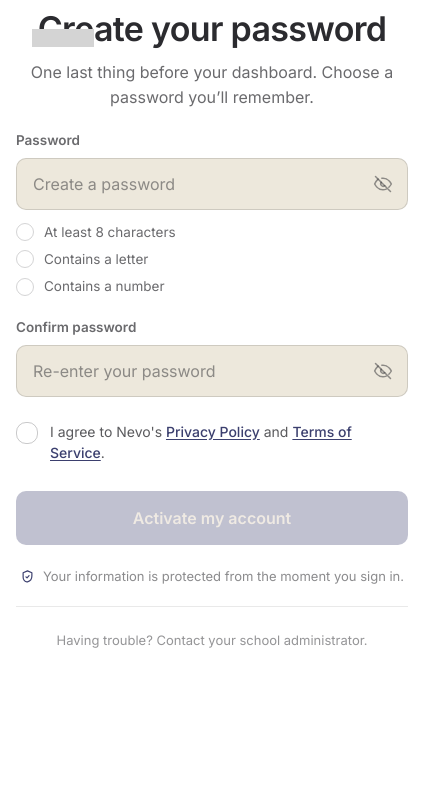
Scenario: an invite that no longer matches the account › does not blame the link when Nevo could not be reached
In the password field labelled "Password": (199, 184) [33,159,365,209], type "lessons42"
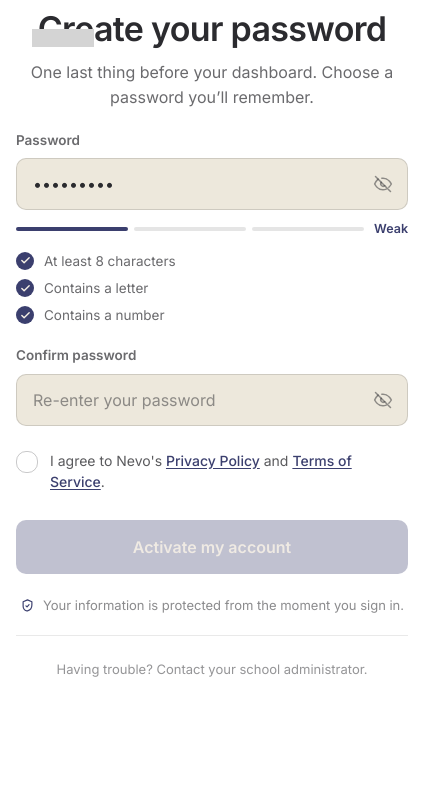
In the password field labelled "Confirm password": (199, 400) [33,375,365,425], type "lessons42"
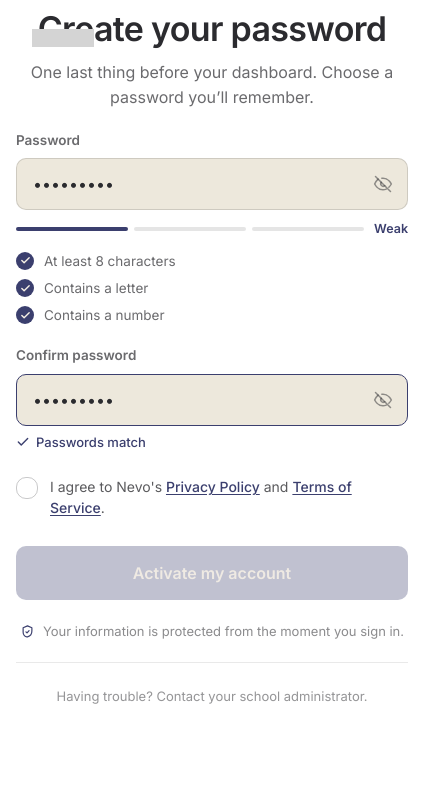
Click the checkbox: (212, 497) [16,476,408,518]
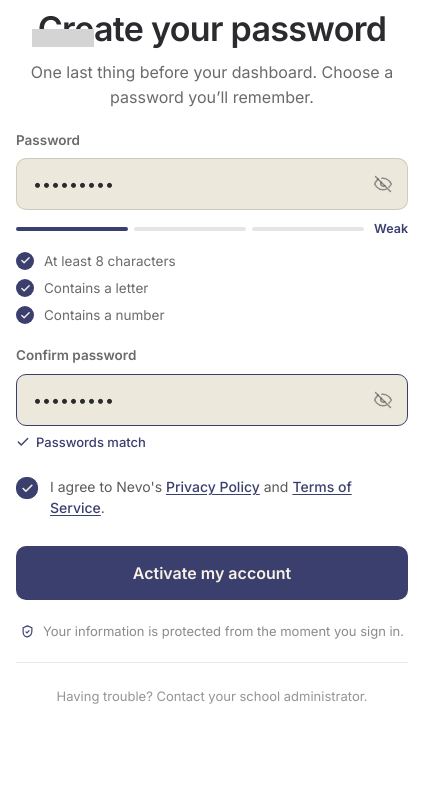
Click the button "Activate my account": (212, 573) [16,546,408,600]
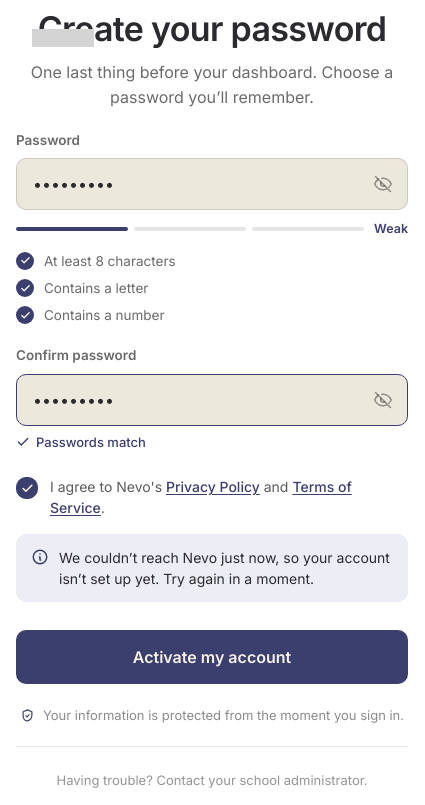
expect the text "couldn’t reach Nevo just now" is shown: met, box [59,549,390,587]
